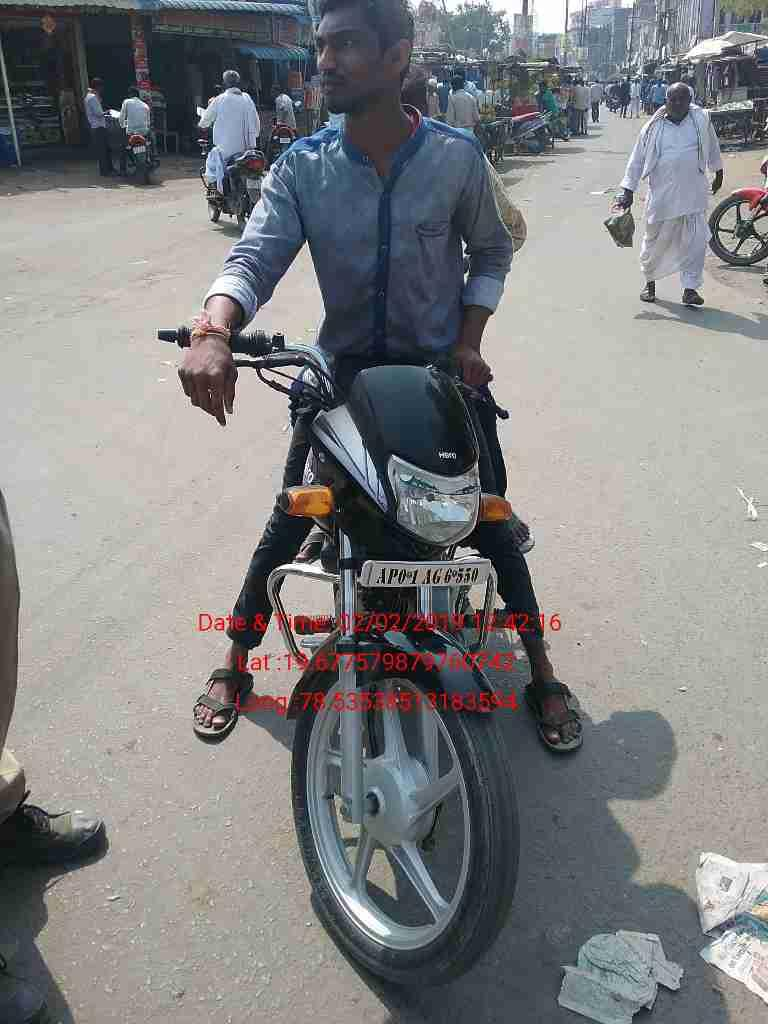plate: (357, 552, 500, 591)
